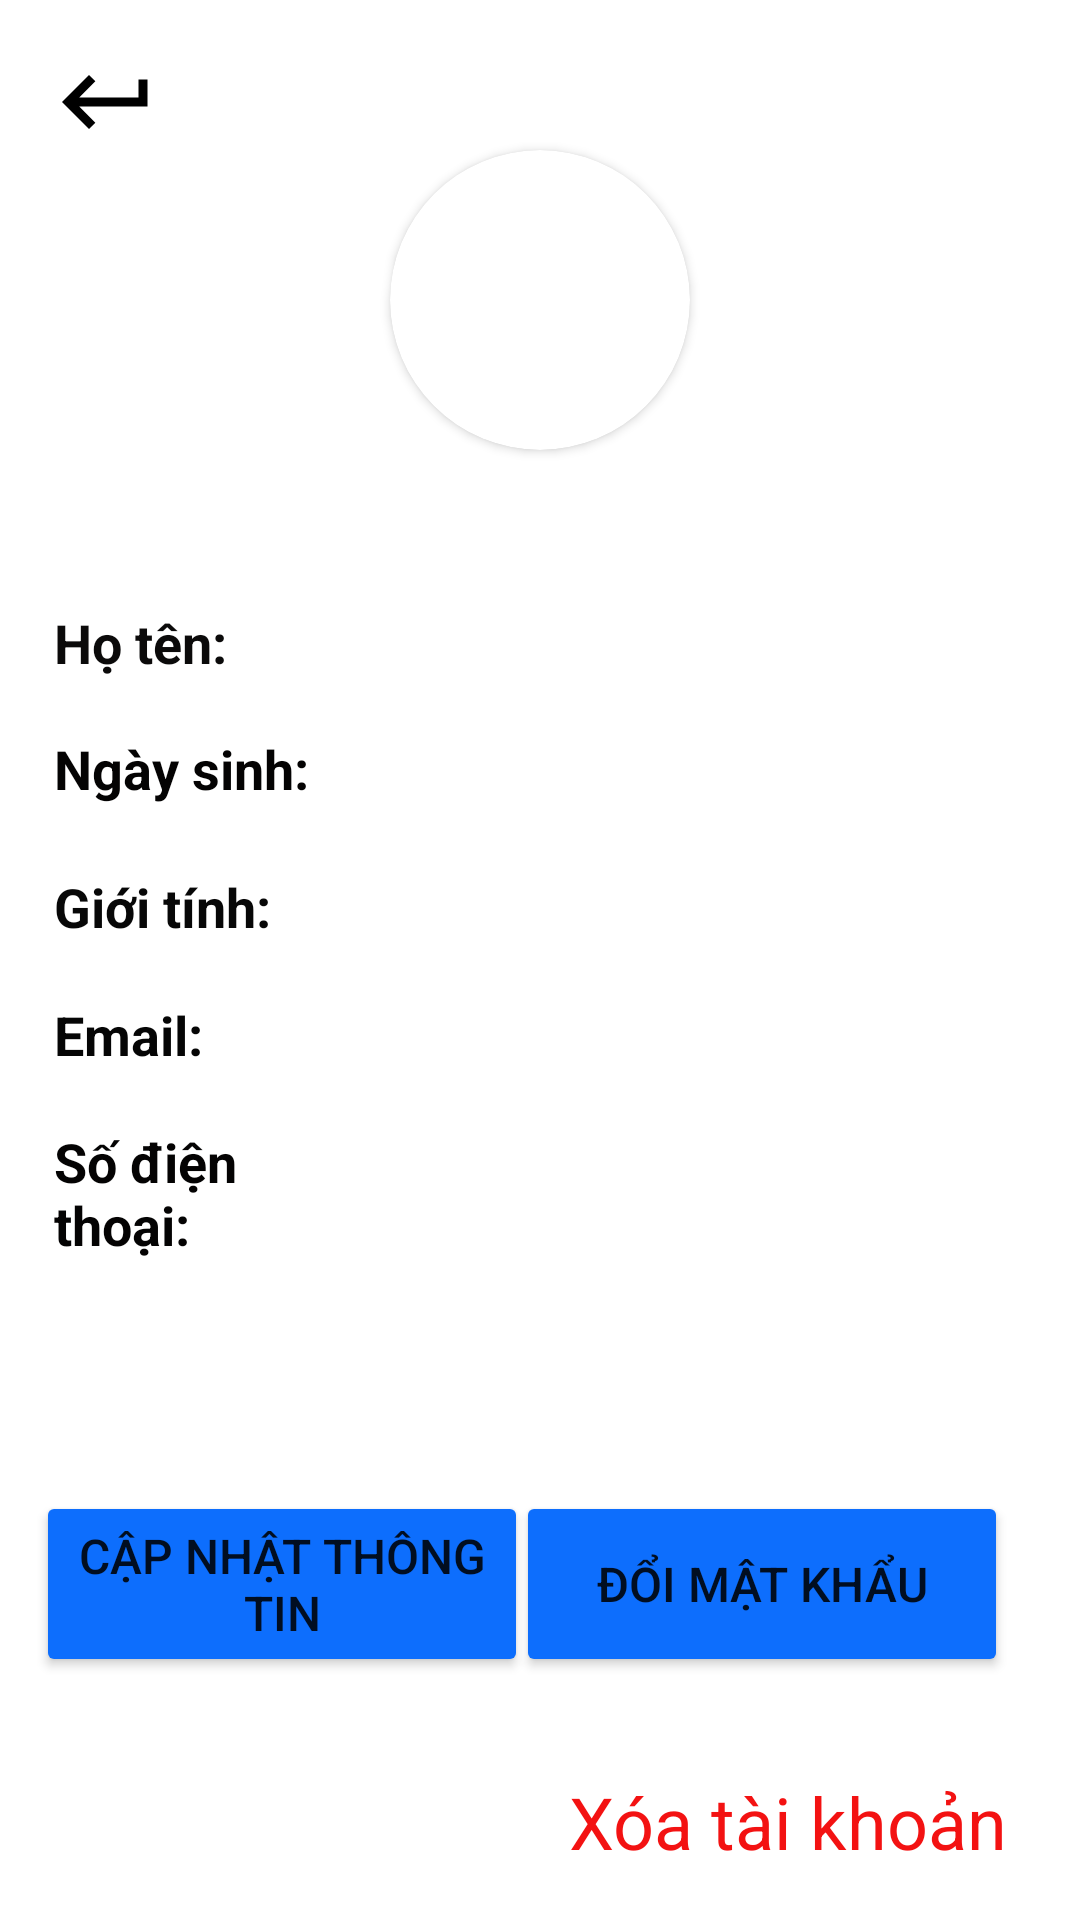

Where to tap for icons on this 1080 x 1920 app screen, as point (x, y):
keyboard return: point (105, 102)
